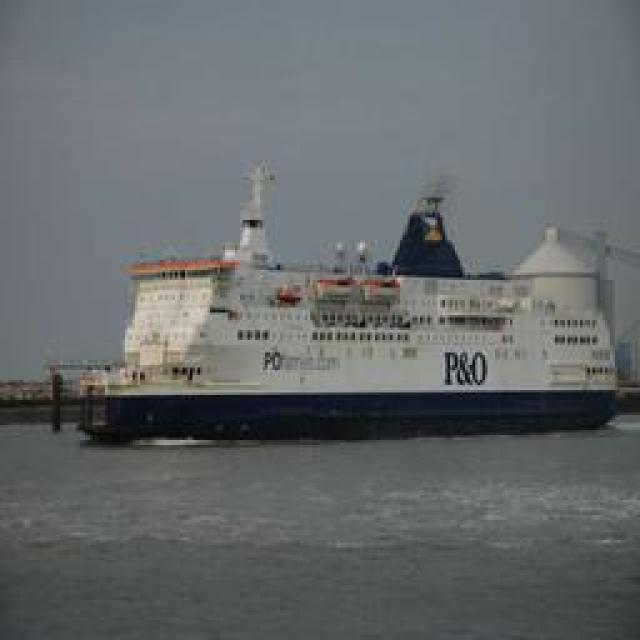CIV_Ship: (76, 168, 614, 434)
